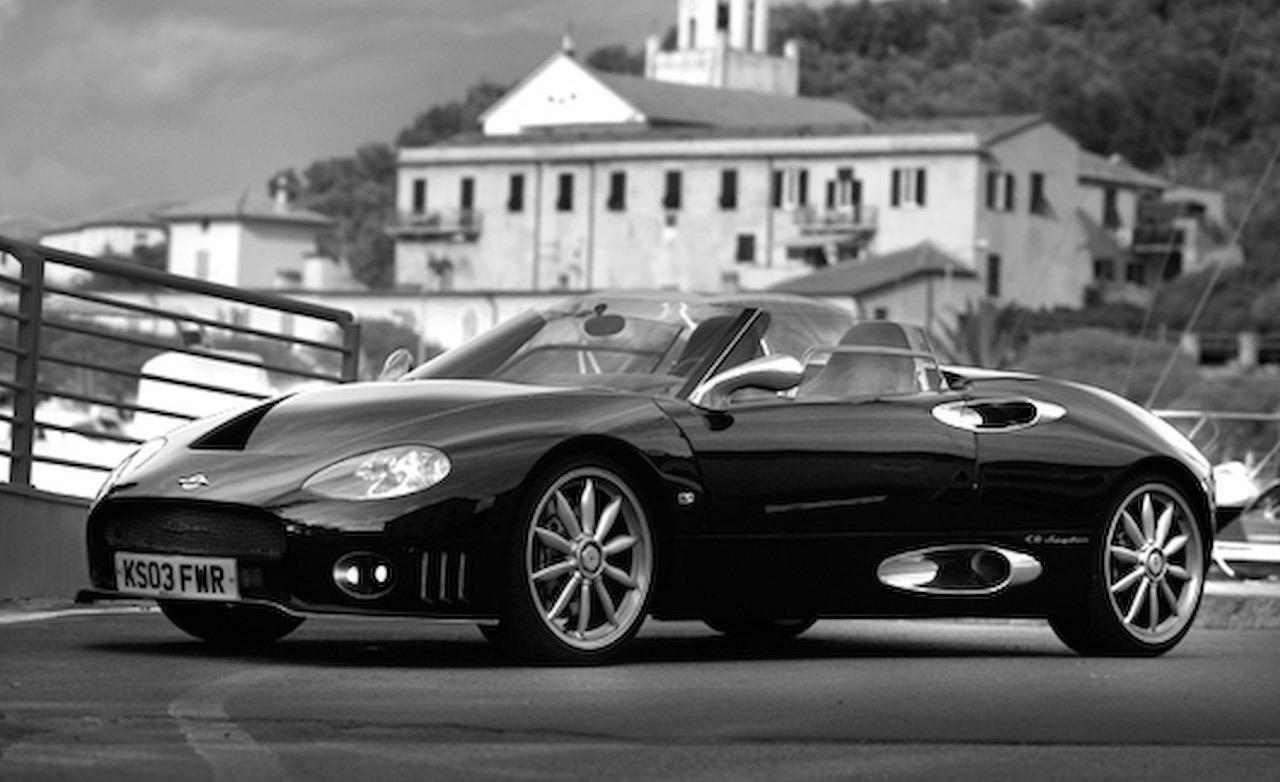car: (68, 287, 1228, 667)
